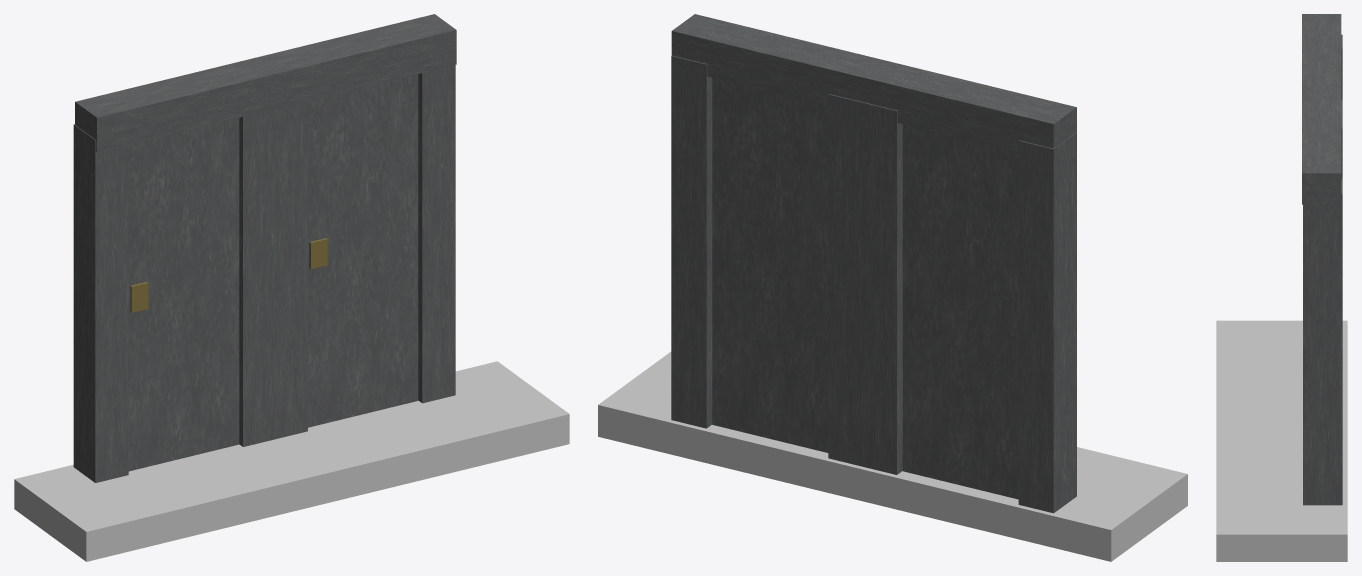
The model's file is door1.obj.
3 views of the same model, side by side, from view 1: azimuth 30°, elevation 25°; view 2: azimuth 150°, elevation 25°; view 3: azimuth 270°, elevation 25° (orthographic). The views are drawn at different scales.
Visible parts, largest first — view 1: sign2_sign2_Nuovo.1, sign2.001_sign2.001_Nuovo.1, Cube_Cube.001_None; view 2: sign2_sign2_Nuovo.1, sign2.001_sign2.001_Nuovo.1, Cube_Cube.001_None; view 3: Cube_Cube.001_None, sign2.001_sign2.001_Nuovo.1, sign2_sign2_Nuovo.1.
Part boxes in pixels (left/top/right/bottom): sign2_sign2_Nuovo.1: left=73, top=57, right=277, bottom=482; sign2.001_sign2.001_Nuovo.1: left=256, top=14, right=456, bottom=439; Cube_Cube.001_None: left=14, top=361, right=569, bottom=561; sign2_sign2_Nuovo.1: left=861, top=60, right=1076, bottom=513; sign2.001_sign2.001_Nuovo.1: left=671, top=14, right=884, bottom=466; Cube_Cube.001_None: left=598, top=351, right=1187, bottom=561; Cube_Cube.001_None: left=1216, top=320, right=1347, bottom=561; sign2.001_sign2.001_Nuovo.1: left=1302, top=94, right=1342, bottom=505; sign2_sign2_Nuovo.1: left=1302, top=14, right=1342, bottom=114.
Size of the model in its own units: 2.92 by 2.29 by 0.7557.
3 materials, 1 textured.
